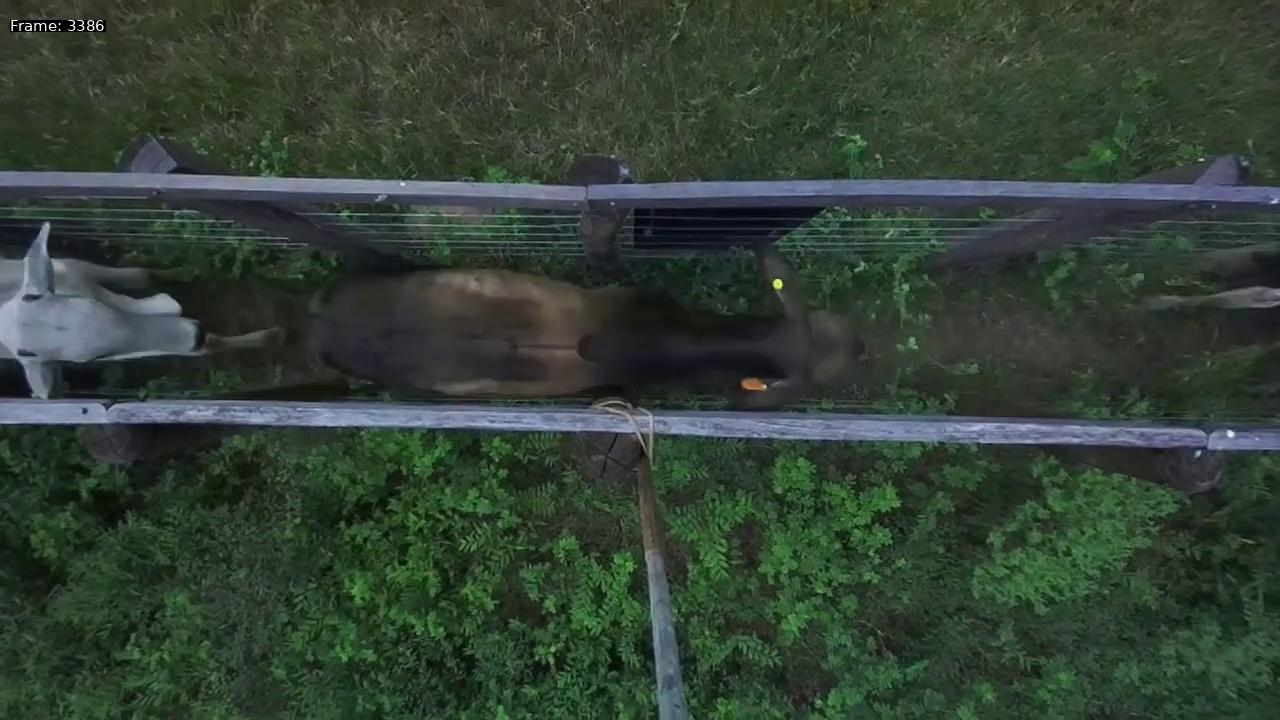cattle: (297, 242, 893, 422)
